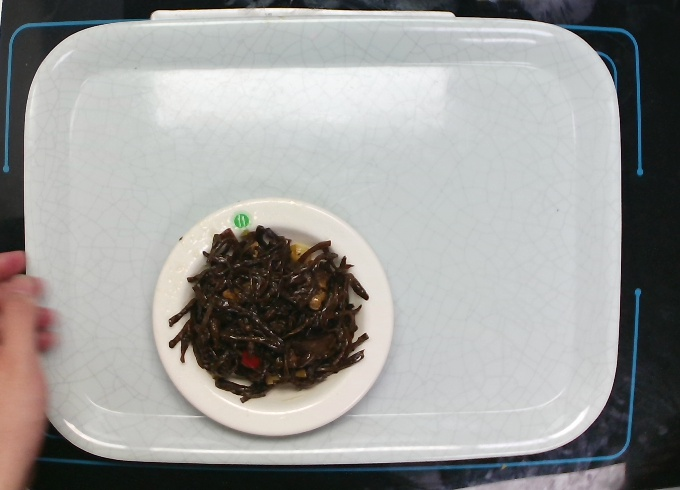WCQzf-Kuan_Bian_Yuan_Die: (147, 195, 396, 441)
